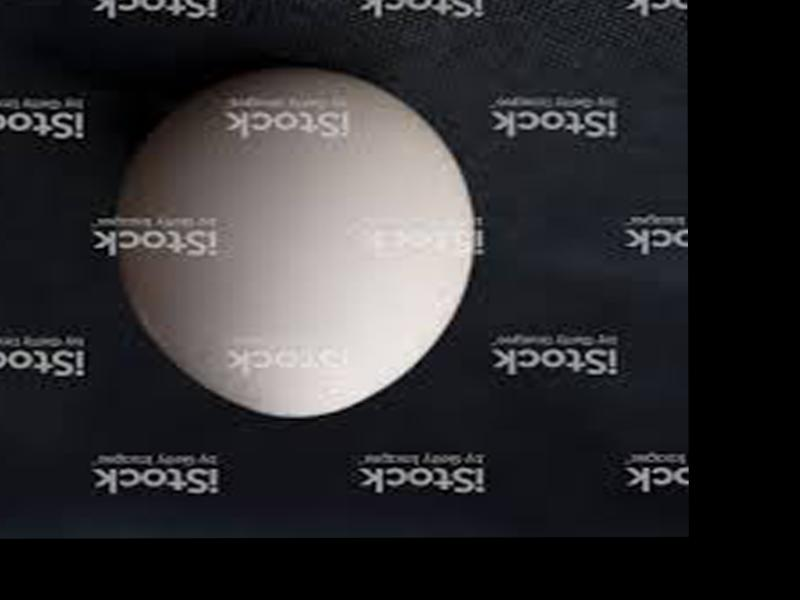Eggs: (114, 64, 474, 417)
